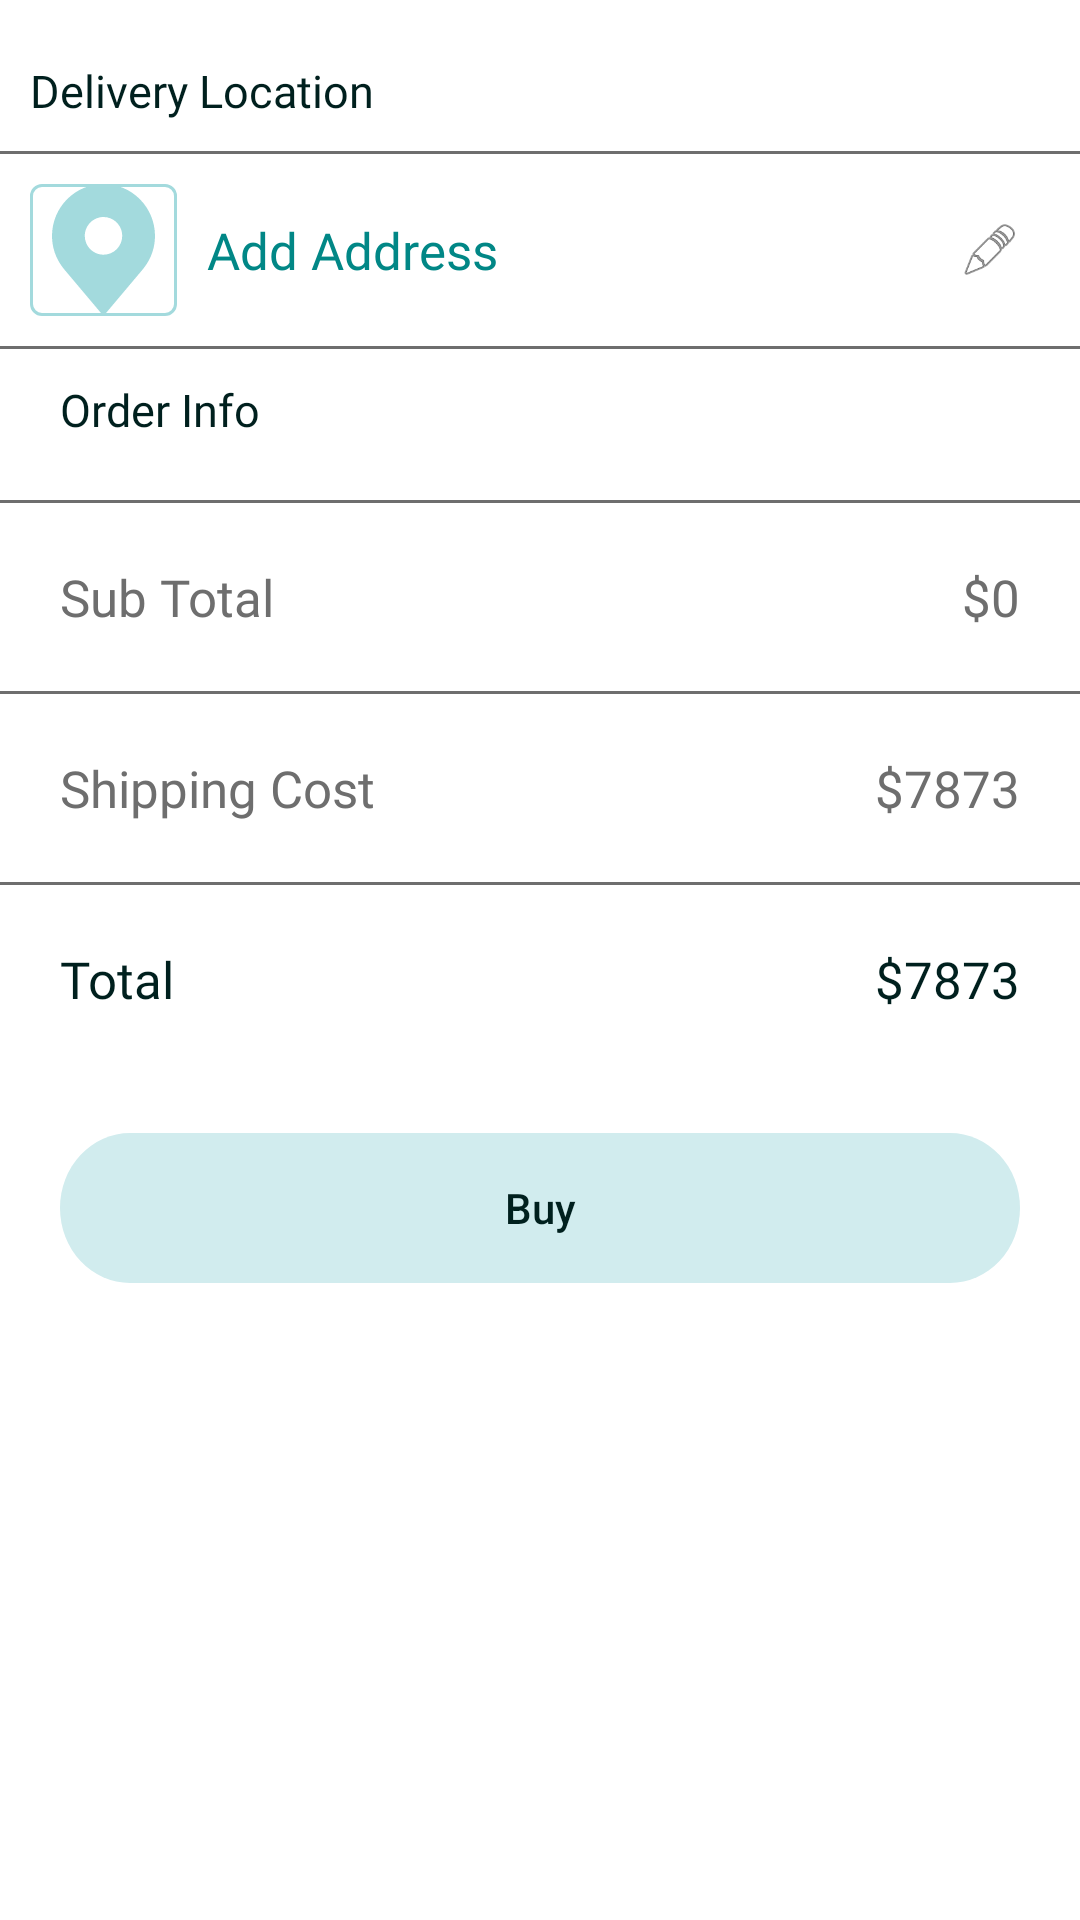

Where icons sit on this 1080×1920 app screen, as (x1, y1, x2, y2):
edit: (964, 224, 1015, 275)
